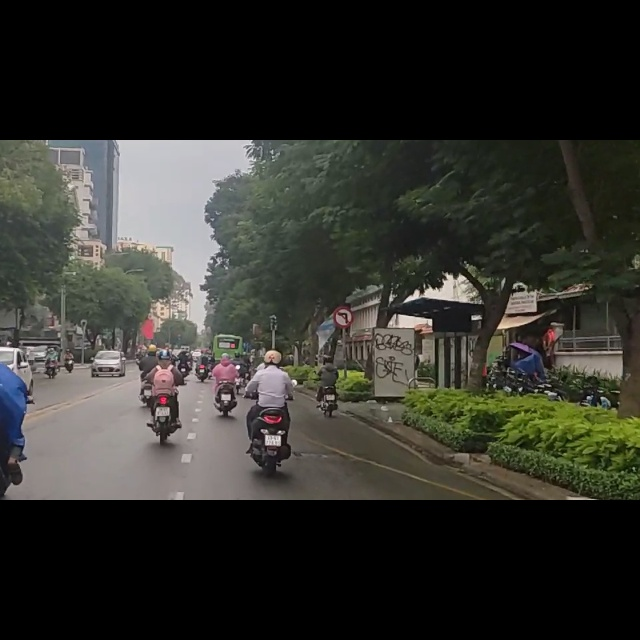bien_cam: (333, 294, 353, 333)
